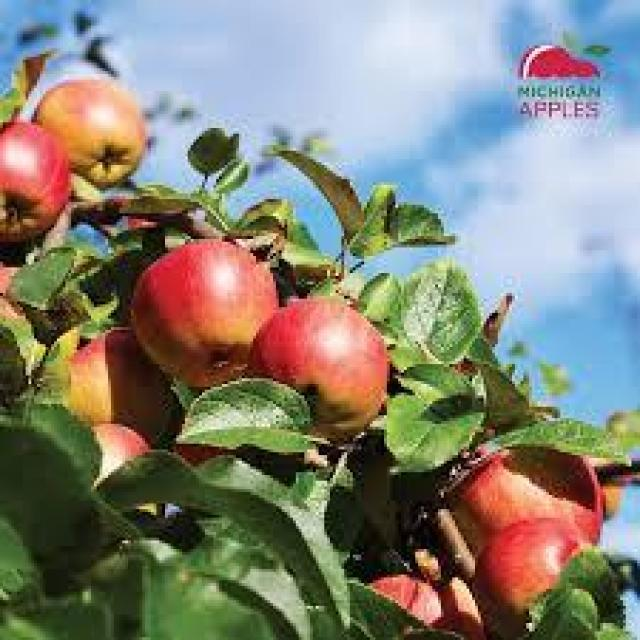apple: (119, 242, 276, 381), (253, 290, 384, 421), (438, 444, 595, 543), (452, 515, 589, 620), (31, 80, 145, 182), (54, 338, 162, 421), (57, 418, 151, 484), (0, 117, 54, 219)
